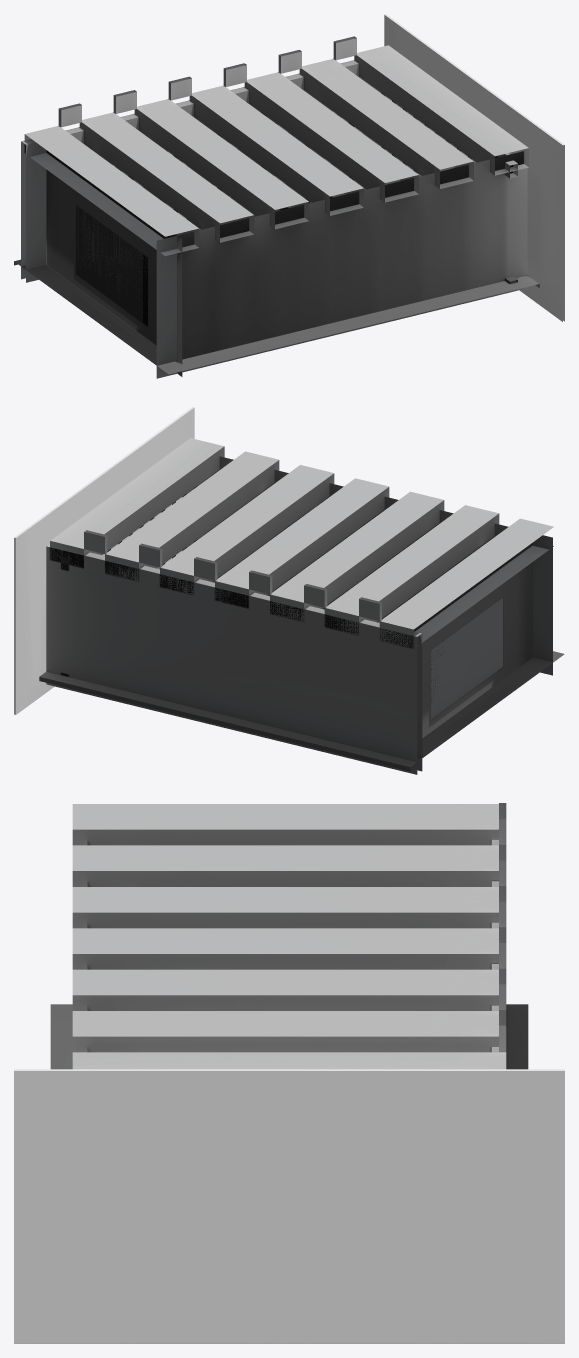
Rendered from hall.glb.
The picture shows the model from 3 angles, top to bottom: view 1: azimuth 30°, elevation 25°; view 2: azimuth 150°, elevation 25°; view 3: azimuth 270°, elevation 25°; orthographic projection. The views are drawn at different scales.
Parts seen in each view (by area): view 1: hall; view 2: hall; view 3: hall.
Part boxes in pixels (x1,y1,x2,y2): hall: (14,14,564,378); hall: (14,407,564,774); hall: (14,803,564,1343).
Bounding box in the file's own units: 18.65 × 8.4 × 15.
1 material, 1 textured.
